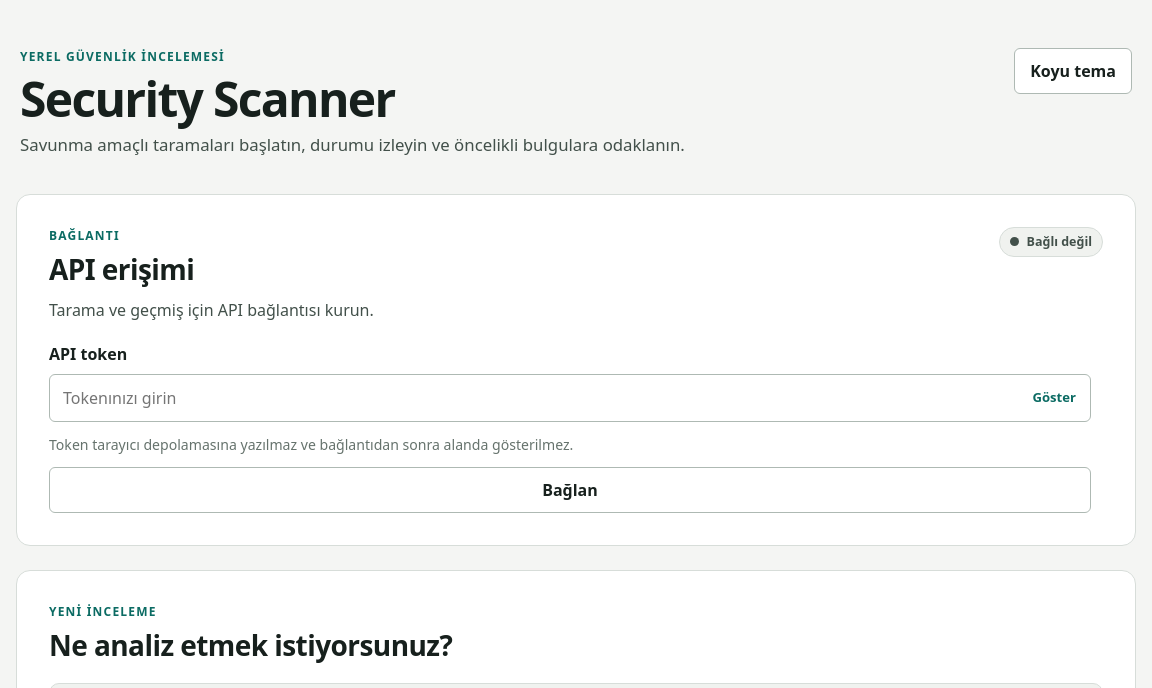
it: ScannerPage › tokenı kalıcı tarayıcı depolamasına yazmaz
The width and height of the screenshot is (1152, 688).
Step 1. Type "yalnızca-bellekte-kalan-token" into the field labelled "API token Göster" → (570, 398), box [49,374,1091,422]
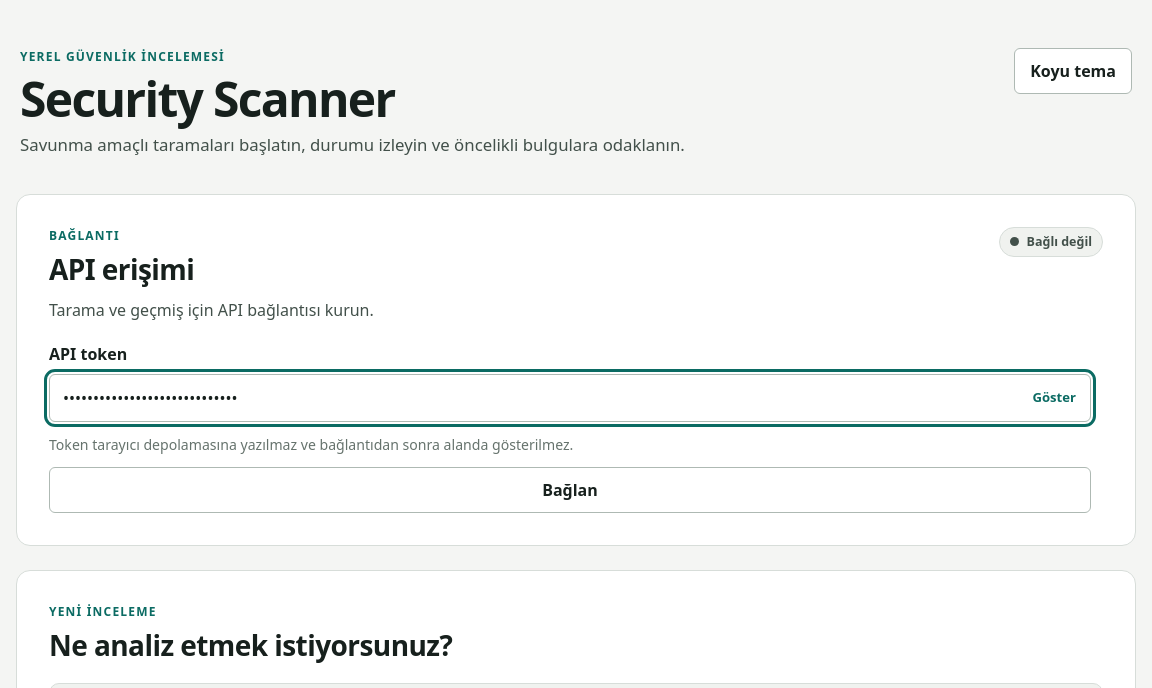
Step 2. Click the button "Bağlan" → (570, 490), box [49,467,1091,513]
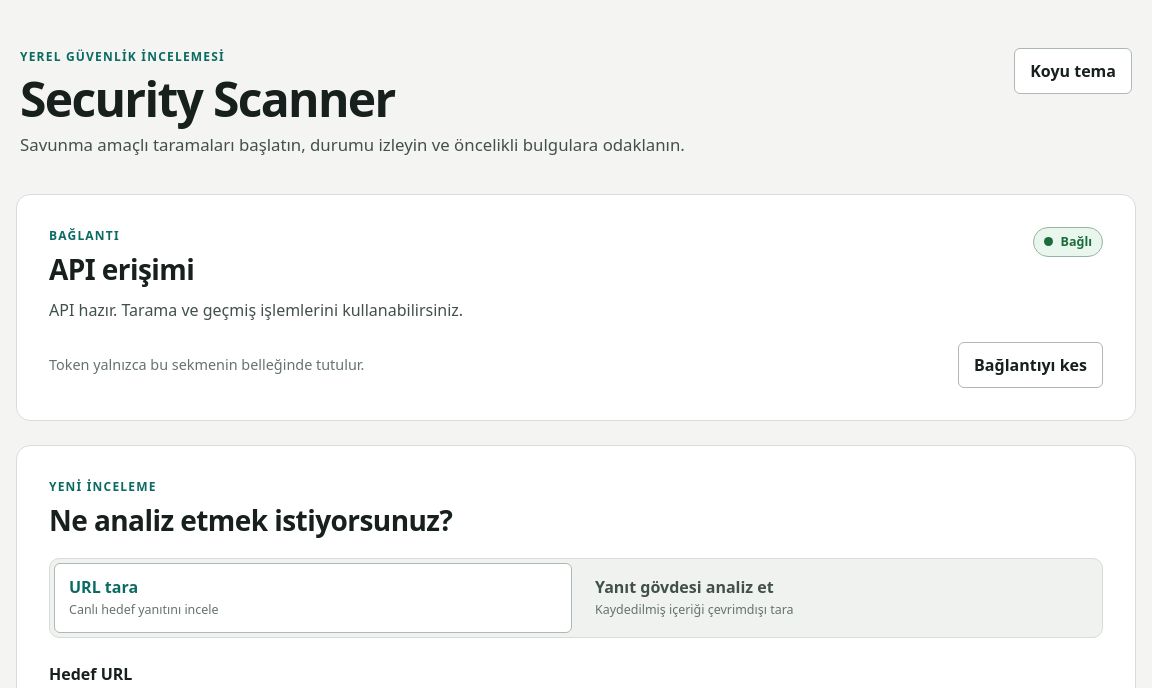
Now the text "API hazır. Tarama ve geçmiş işlemlerini kullanabilirsiniz." is shown, box [49,299,463,321]
